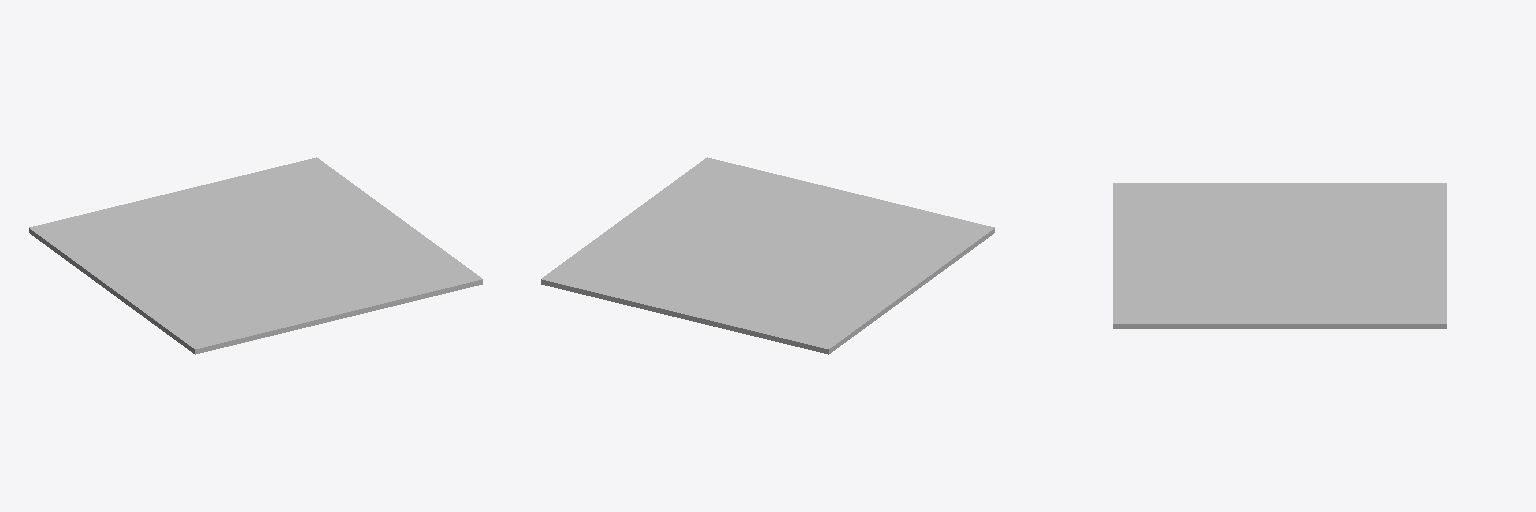
The model's file is chessboard.obj.
The picture shows the model from 3 angles: view 1: azimuth 30°, elevation 25°; view 2: azimuth 150°, elevation 25°; view 3: azimuth 270°, elevation 25°; orthographic projection.
Parts seen in each view (by area): view 1: Chess_board_Plane.001; view 2: Chess_board_Plane.001; view 3: Chess_board_Plane.001.
Part boxes in pixels (left/top/right/bottom): Chess_board_Plane.001: left=29, top=157, right=482, bottom=354; Chess_board_Plane.001: left=541, top=157, right=994, bottom=354; Chess_board_Plane.001: left=1113, top=183, right=1446, bottom=328.
Size of the model in its own units: 21.93 by 0.3695 by 21.93.